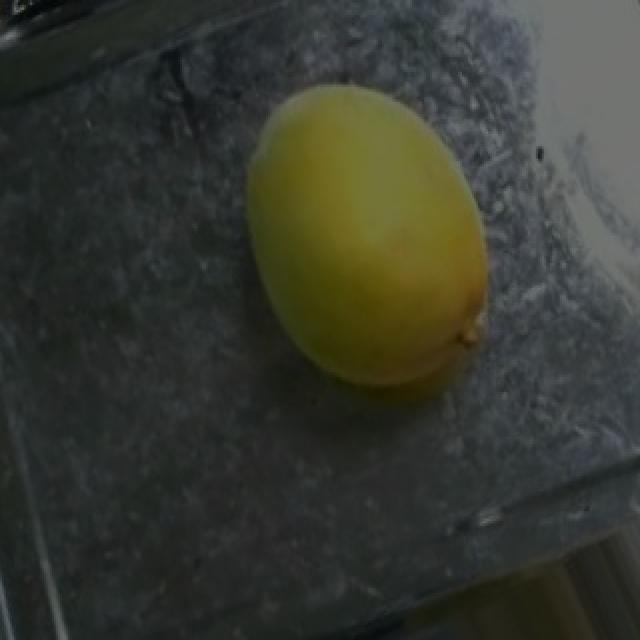fruit: (194, 45, 550, 424)
